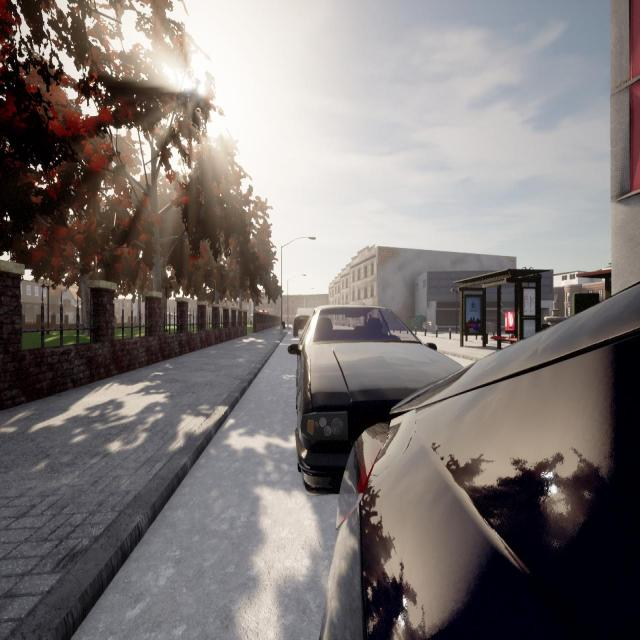Vehicle: (321, 286, 640, 640), (287, 305, 463, 493), (293, 308, 315, 337)
